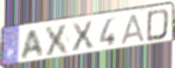4: (98, 16, 118, 48)
A: (119, 13, 146, 46), (20, 28, 46, 62)
D: (145, 8, 171, 44)
X: (43, 22, 72, 58), (70, 20, 96, 53)
